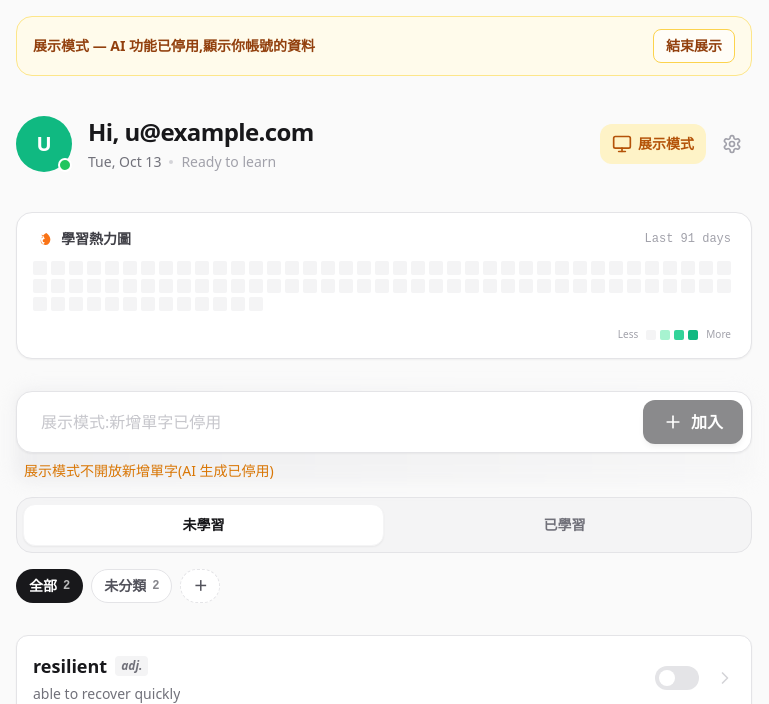
it: 一般帳號按「結束展示」→ 只關展示模式、不登出
Click the button "結束展示" at (694, 46), box [653,29,735,63]
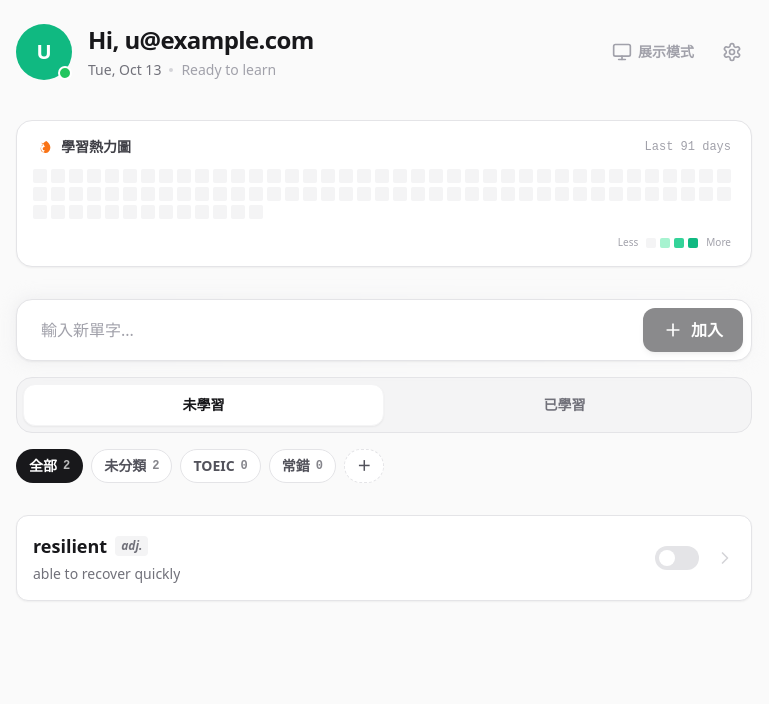
Expected: the message "展示模式 — AI 功能已停用,顯示你帳號的資料" is gone
